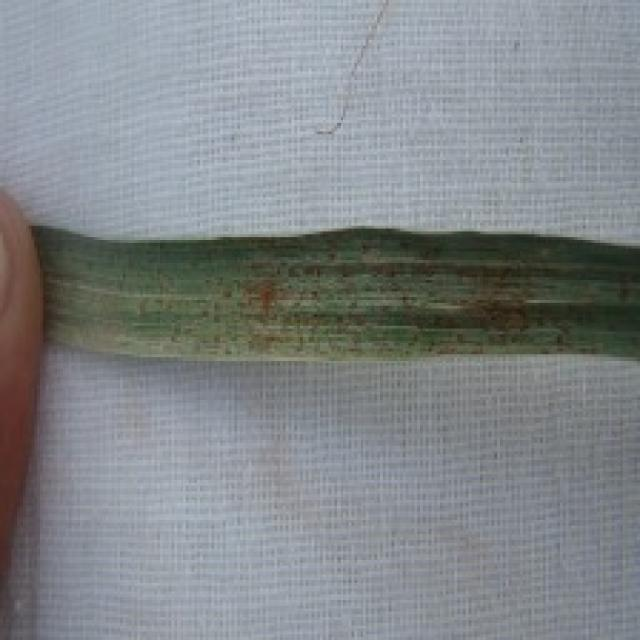Brown_Spot: (377, 243, 526, 289), (223, 261, 285, 321), (477, 288, 540, 346)
